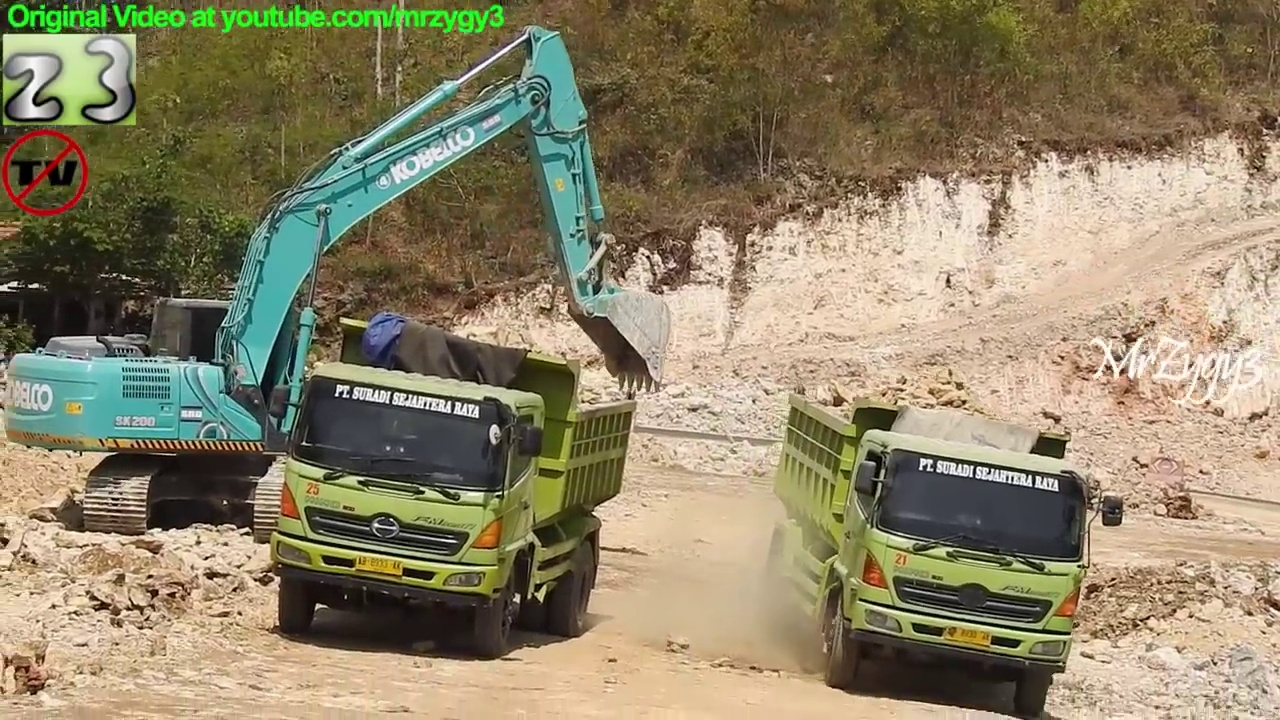excavator: (1, 16, 678, 552)
truck: (262, 306, 641, 662), (755, 381, 1127, 720)
